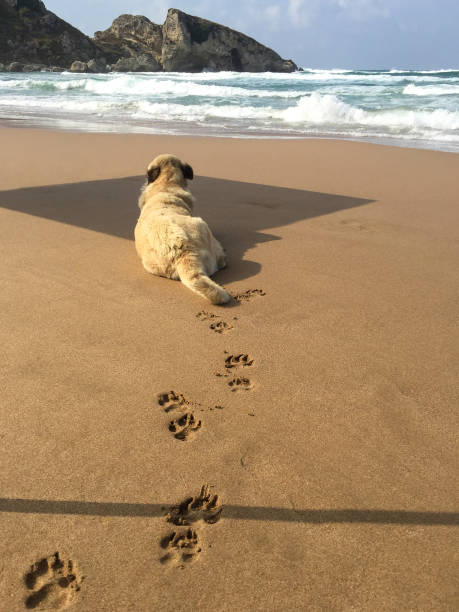animal_foot_print: (24, 552, 83, 609), (166, 484, 222, 525), (160, 527, 201, 564), (169, 412, 202, 441), (196, 311, 232, 333), (157, 391, 189, 412), (225, 354, 254, 369), (233, 289, 265, 302), (227, 377, 252, 391), (209, 321, 232, 333), (196, 311, 218, 320)
